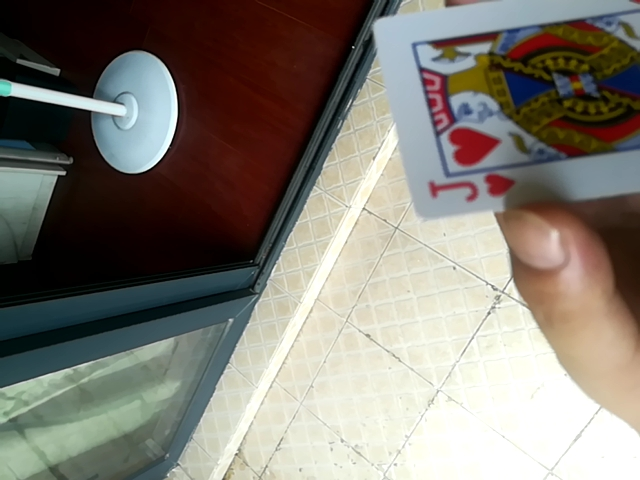hx j: (366, 0, 637, 219)
